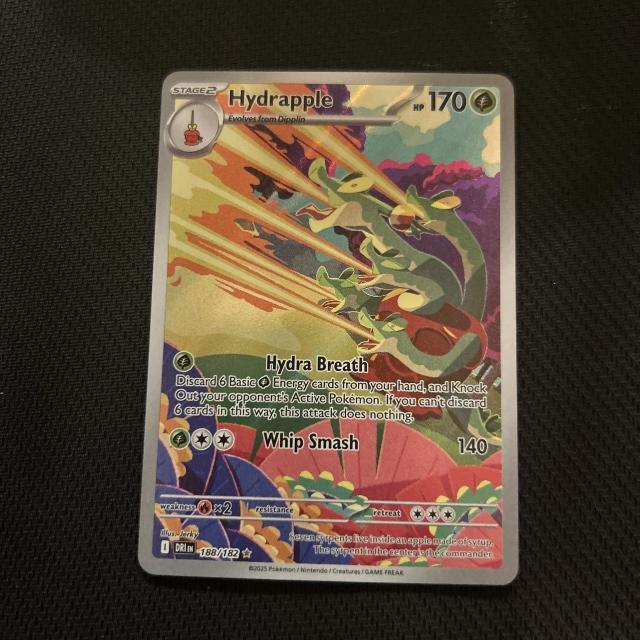Card: (130, 65, 524, 592)
Name: (221, 81, 337, 114)
